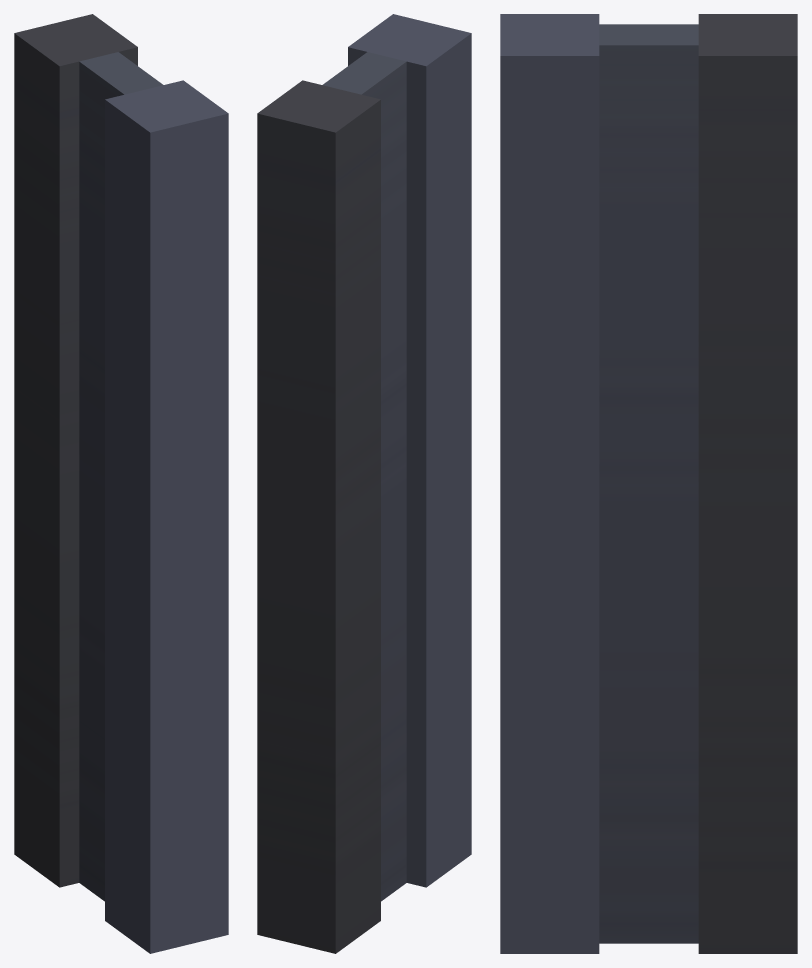
Rendered from wall-arch.glb.
The picture shows the model from 3 angles, left to right: view 1: azimuth 30°, elevation 25°; view 2: azimuth 150°, elevation 25°; view 3: azimuth 270°, elevation 25°; orthographic projection. The views are drawn at different scales.
Parts seen in each view (by area): view 1: wall-arch; view 2: wall-arch; view 3: wall-arch.
Boxes of the visible parts, x1,y1,x2,y2 form: wall-arch: (14,14,228,953); wall-arch: (257,14,471,953); wall-arch: (500,14,797,953).
Size of the model in its own units: 0.1 by 1 by 0.3.
1 material, 1 textured.
